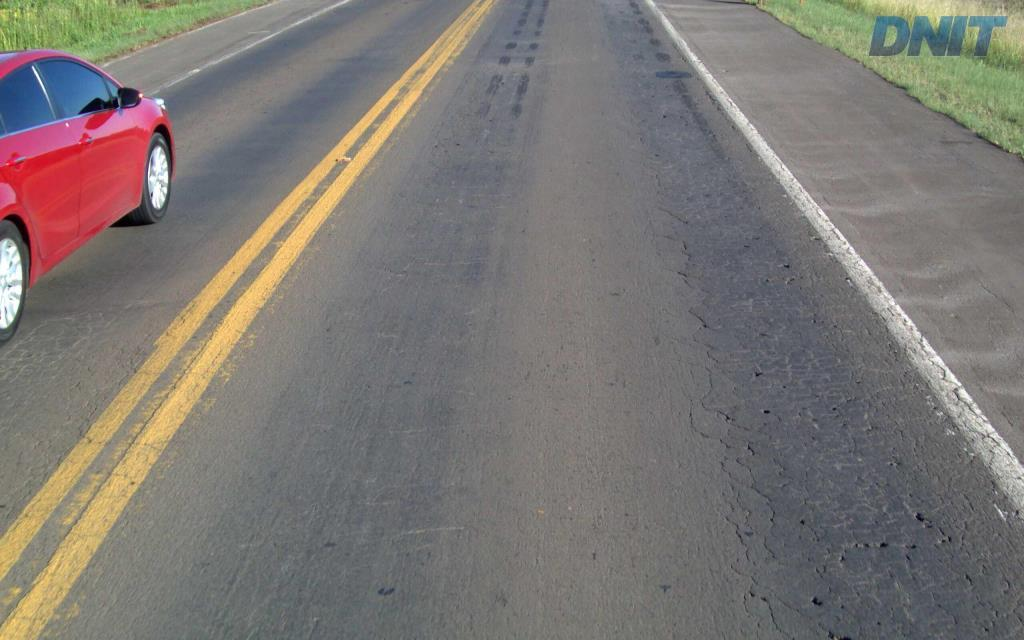crack: (914, 511, 954, 546), (811, 563, 841, 608)
